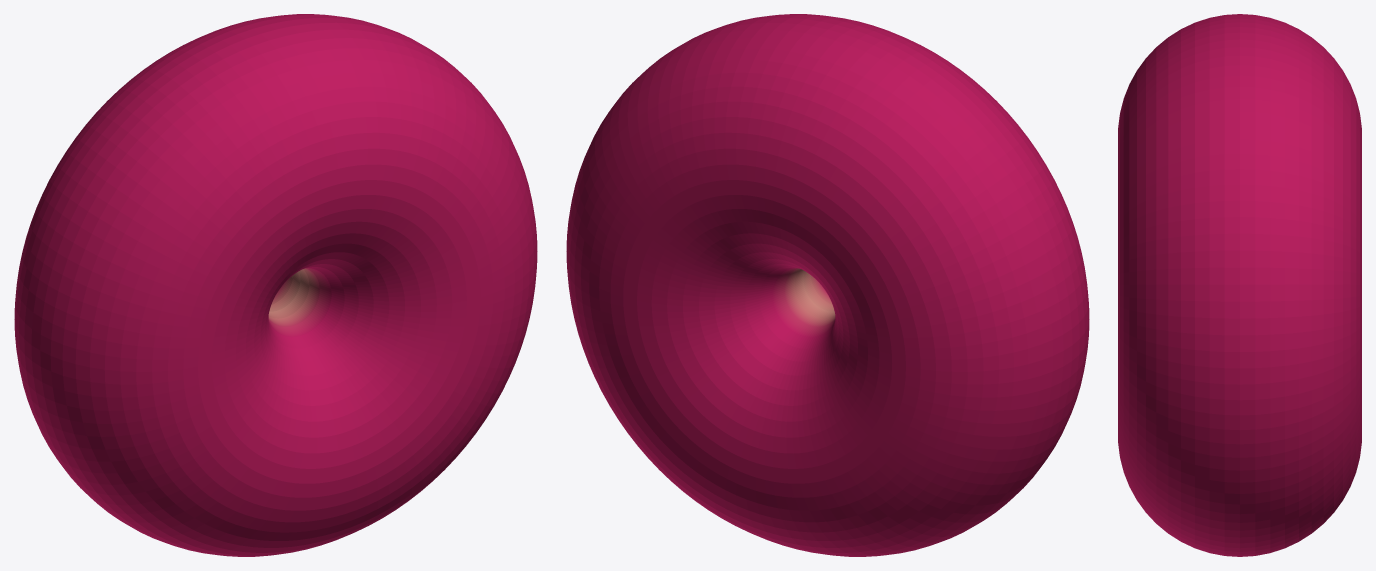
3 views of the same model, side by side, from view 1: azimuth 30°, elevation 25°; view 2: azimuth 150°, elevation 25°; view 3: azimuth 270°, elevation 25° (orthographic). The views are drawn at different scales.
Parts seen in each view (by area): view 1: world; view 2: world; view 3: world.
Part boxes in pixels (x1,y1,x2,y2): world: [14, 14, 537, 556]; world: [566, 14, 1089, 556]; world: [1118, 14, 1361, 556].
Size of the model in its own units: 22.22 by 22.22 by 9.98.
